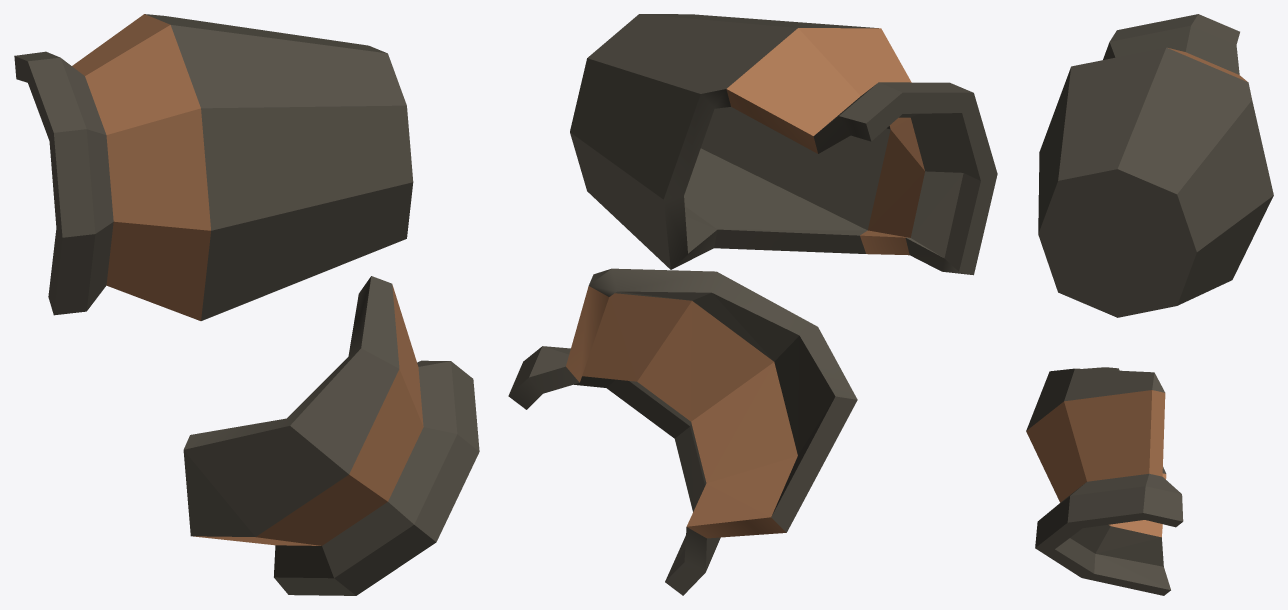
Rendered from Urn Broken 01.FBX.
3 renders of one model, left to right at view 1: azimuth 30°, elevation 25°; view 2: azimuth 150°, elevation 25°; view 3: azimuth 270°, elevation 25°, orthographic. The views are drawn at different scales.
Parts seen in each view (by area): view 1: Urn Broken 01; view 2: Urn Broken 01; view 3: Urn Broken 01.
Boxes of the visible parts, <box> form: Urn Broken 01: <box>14,14,479,595</box>; Urn Broken 01: <box>508,14,997,595</box>; Urn Broken 01: <box>1026,14,1273,595</box>.
Size of the model in its own units: 76.45 by 44.23 by 98.62.
